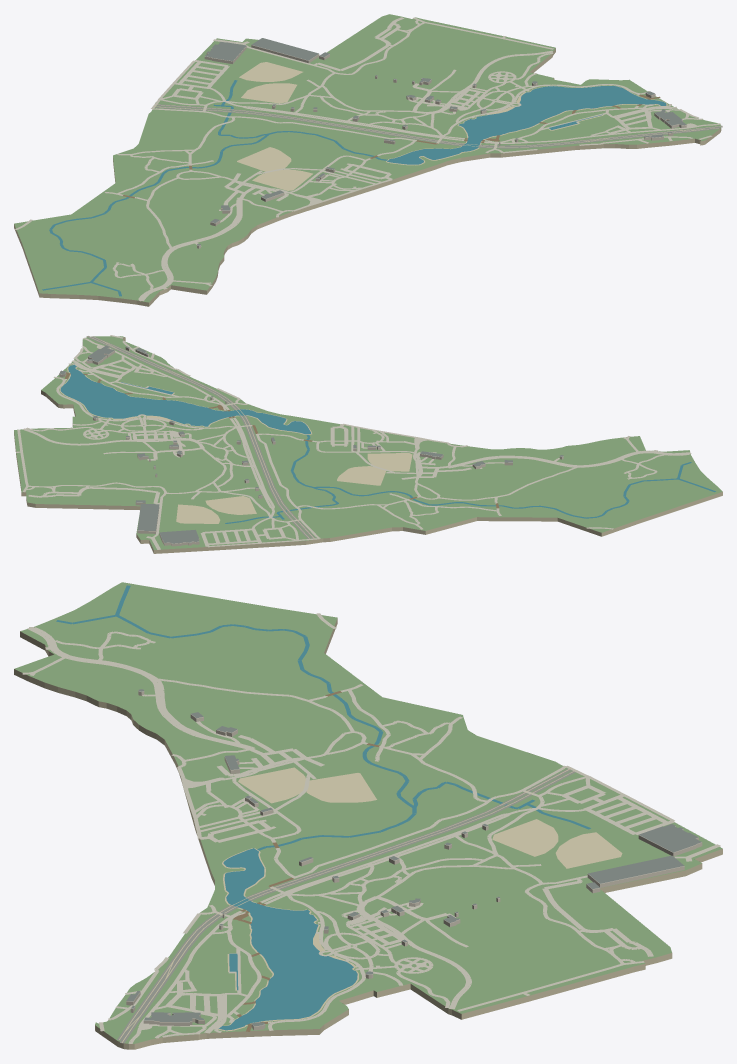
Rendered from waterloo-park.glb.
3 renders of one model, top to bottom at view 1: azimuth 30°, elevation 25°; view 2: azimuth 150°, elevation 25°; view 3: azimuth 270°, elevation 25°, orthographic. The views are drawn at different scales.
Parts seen in each view (by area): view 1: lawn, path, sand, water, rail, roof, building; view 2: lawn, path, sand, water, roof, rail, building; view 3: lawn, path, sand, water, roof, rail, building.
Boxes of the visible parts, x1,y1,x2,y2 form: lawn: (14, 14, 720, 302); path: (15, 17, 720, 301); sand: (14, 48, 722, 306); water: (42, 80, 666, 296); rail: (155, 104, 722, 148); roof: (197, 38, 686, 245); building: (197, 45, 686, 248); lawn: (14, 336, 722, 549); path: (16, 335, 691, 549); sand: (14, 336, 722, 553); water: (60, 364, 715, 523); roof: (59, 345, 563, 543); rail: (86, 336, 315, 538); building: (59, 347, 563, 546); lawn: (14, 582, 722, 1043); path: (22, 613, 720, 1043); sand: (14, 618, 722, 1049); water: (56, 585, 590, 1030); roof: (126, 689, 701, 1026); rail: (117, 768, 575, 1043); building: (126, 690, 702, 1030).
Bounding box in the file's own units: 42.21 × 0.424 × 27.35.
